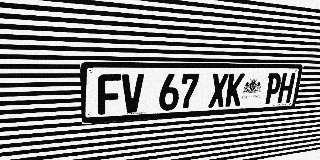6: (159, 74, 180, 111)
7: (178, 74, 199, 110)
F: (97, 74, 121, 115)
H: (277, 73, 296, 103)
K: (225, 73, 245, 107)
P: (263, 73, 282, 104)
V: (121, 74, 144, 113)
X: (208, 73, 229, 108)
